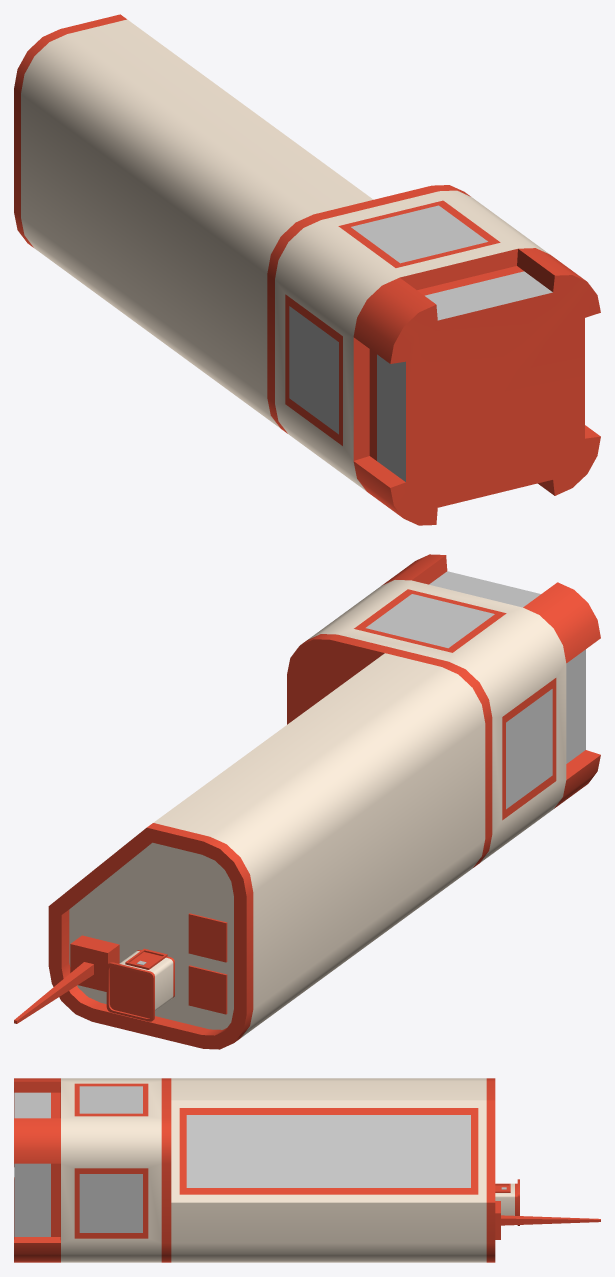
The model's file is Building06.fbx.
3 views of the same model, one above another, from view 1: azimuth 30°, elevation 25°; view 2: azimuth 150°, elevation 25°; view 3: azimuth 270°, elevation 25° (orthographic). The views are drawn at different scales.
Visible parts, largest first — view 1: c020; view 2: c020; view 3: c020.
Part boxes in pixels (box(x1,y1,x2,y2)): c020: box(14, 14, 600, 525); c020: box(14, 554, 600, 1049); c020: box(14, 1078, 600, 1262).
Bounding box in the file's own units: 1030 × 1030 × 3886.
